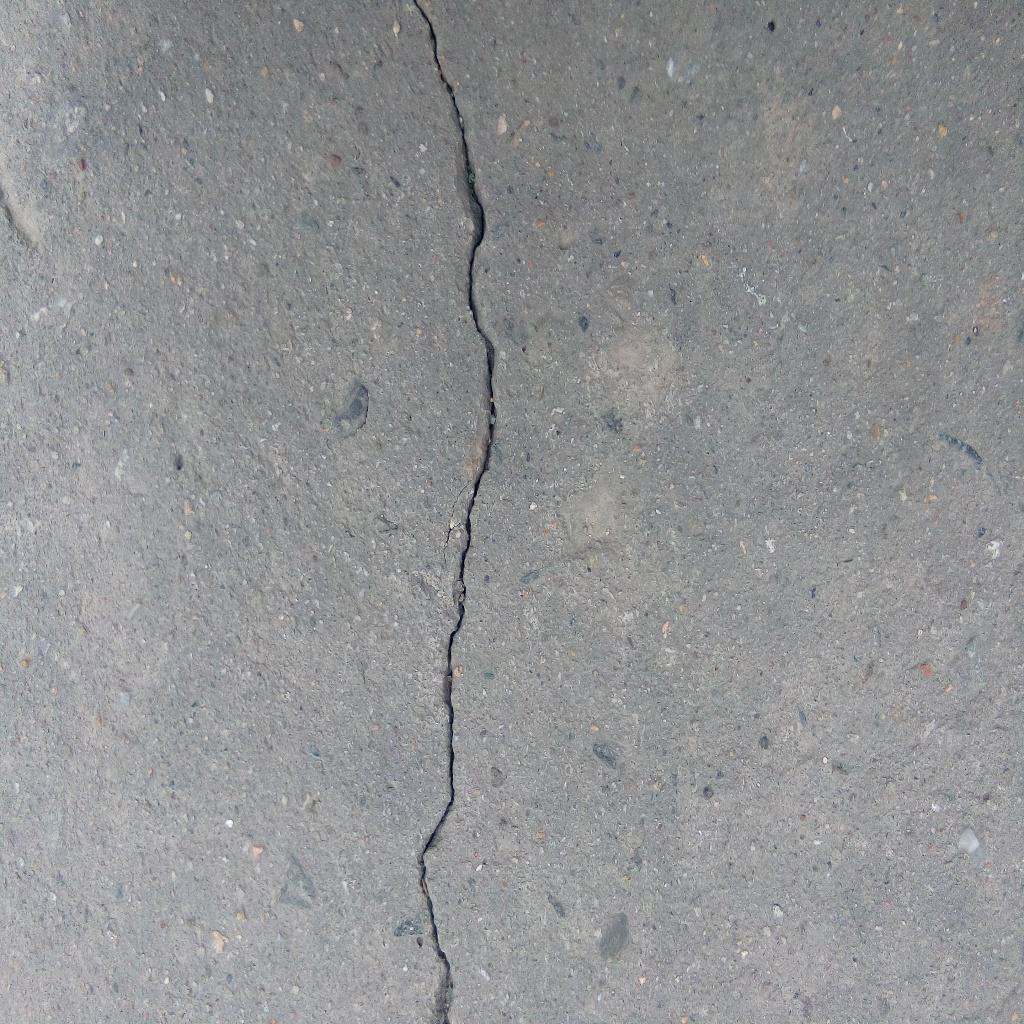Crack: (415, 1, 500, 1024)
